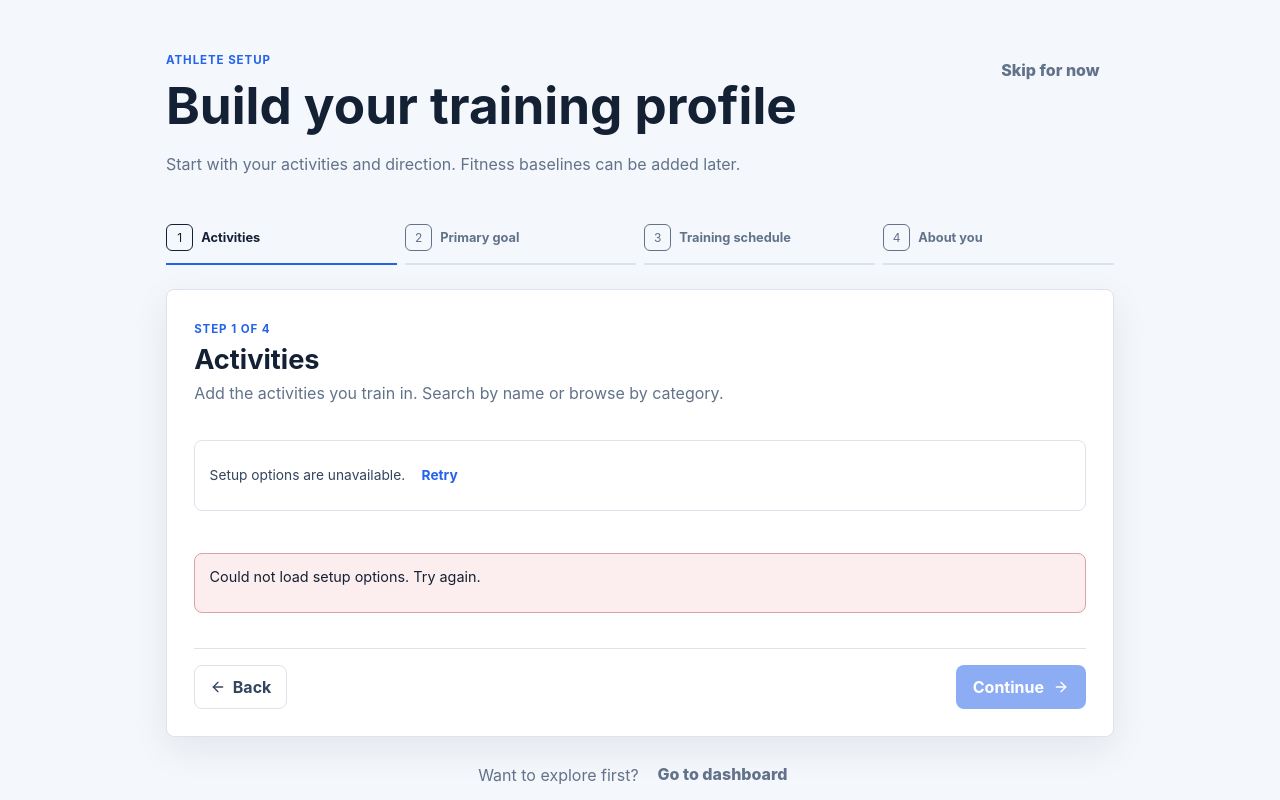
ProfileSetup › retries when options fail to load
Check: the message shows "Could not load setup options", box [210, 568, 481, 585]
What coordinates should you click on to do the following:
click the button "Retry"
I would click on:
 (440, 475)
Its box is [416, 459, 464, 491].
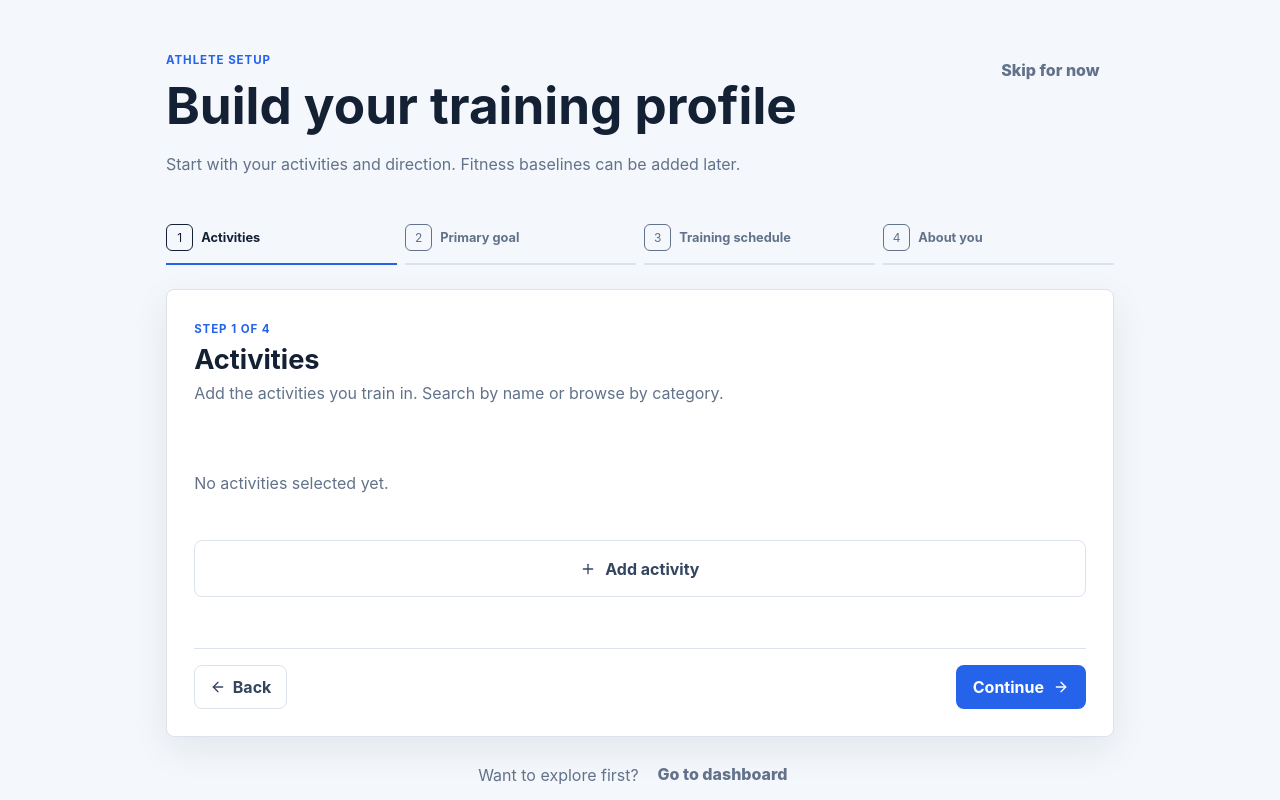
Check: the button "Add activity" is shown, box [194, 540, 1086, 598]
